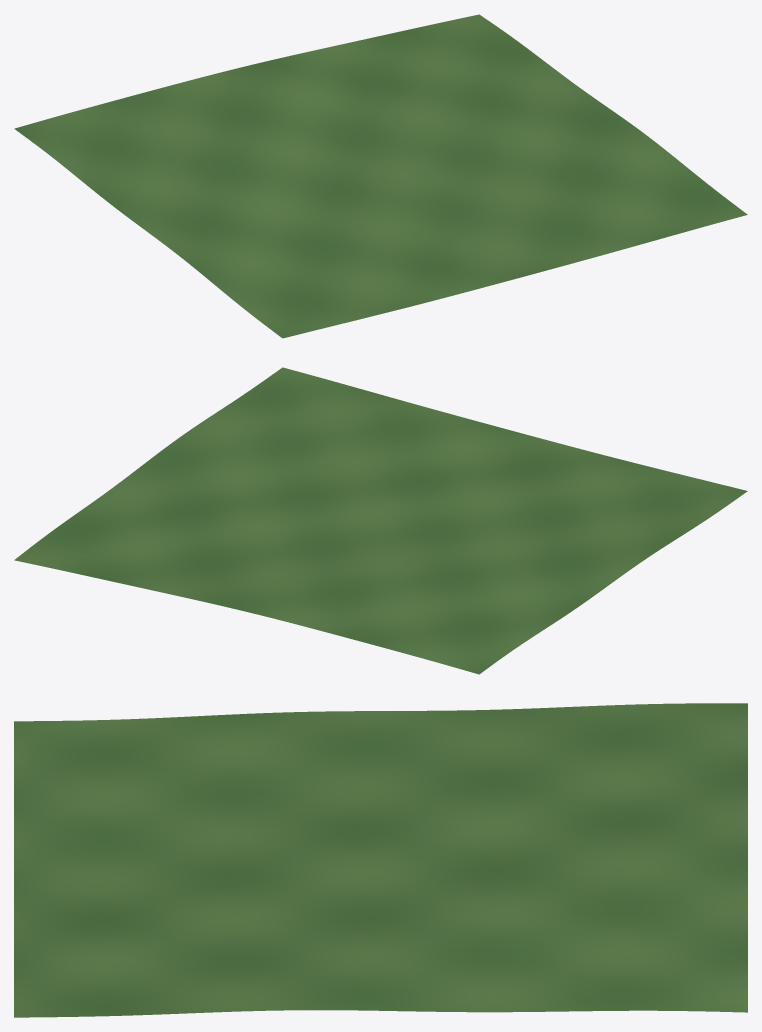
The model's file is chunk_7_8.glb.
3 renders of one model, top to bottom at view 1: azimuth 30°, elevation 25°; view 2: azimuth 150°, elevation 25°; view 3: azimuth 270°, elevation 25°, orthographic. The views are drawn at different scales.
Size of the model in its own units: 512 by 20.07 by 512.
